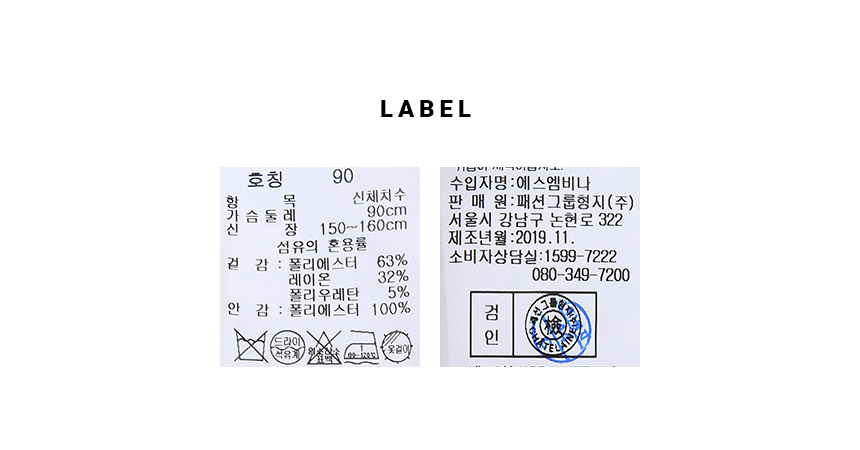KR_dry_clean_petroleum: (269, 330, 306, 365)
KR_hang_dry_in_shade: (380, 327, 415, 365)
KR_iron_low_temp_with_cloth: (343, 328, 380, 366)
KR_no_bleach: (305, 328, 342, 366)
KR_no_wash: (232, 327, 269, 364)
